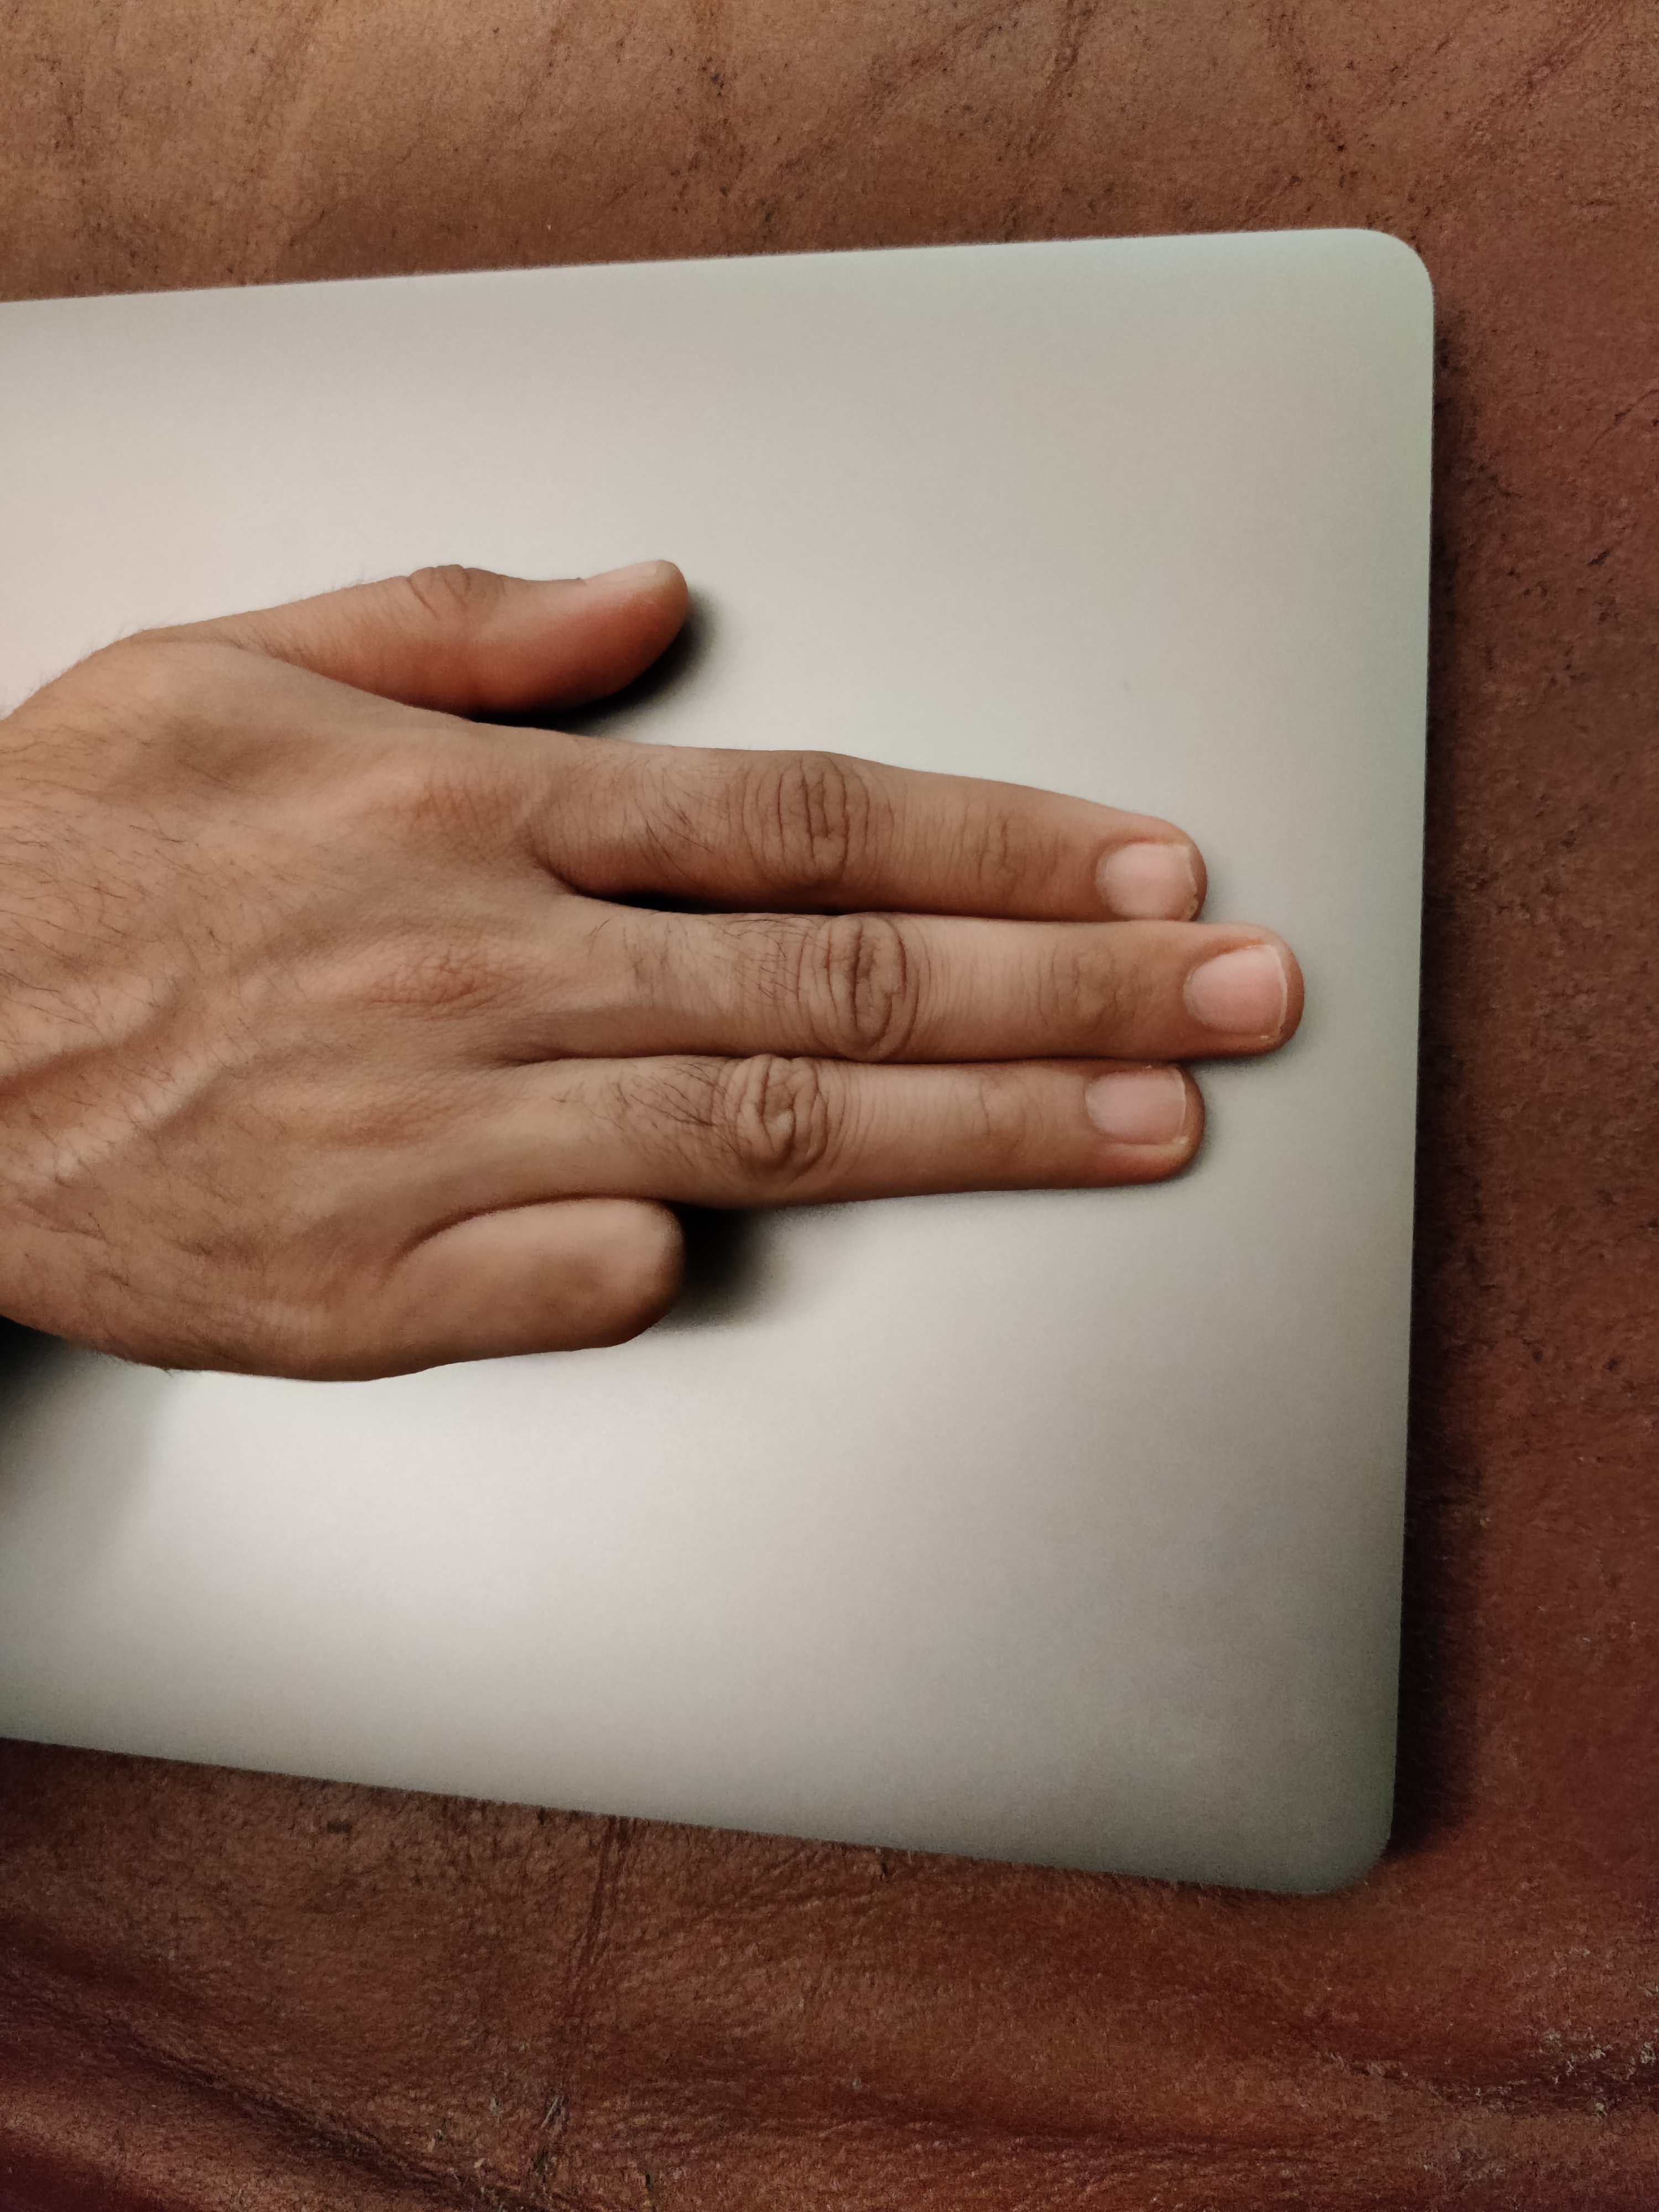left: (10, 132, 1460, 1717)
